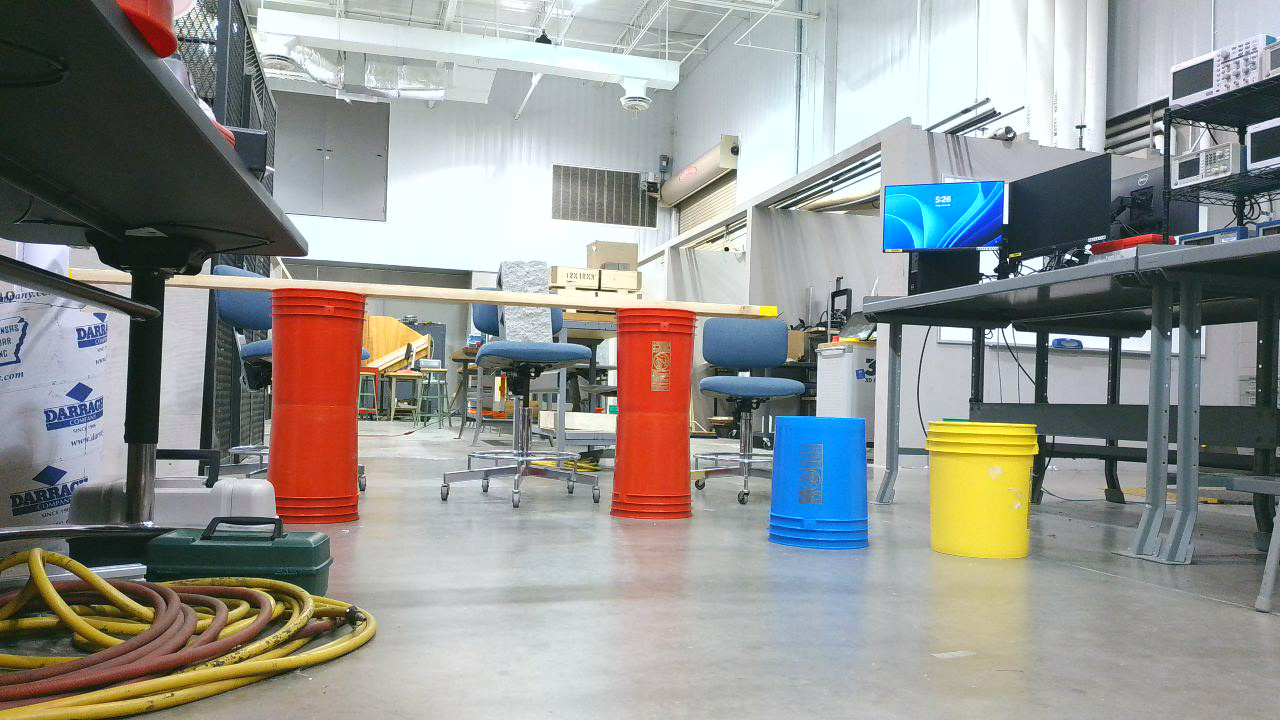blue_bucket: (767, 416, 882, 560)
red_bucket_arch: (268, 281, 705, 534)
yellow_bucket: (927, 422, 1048, 567)
